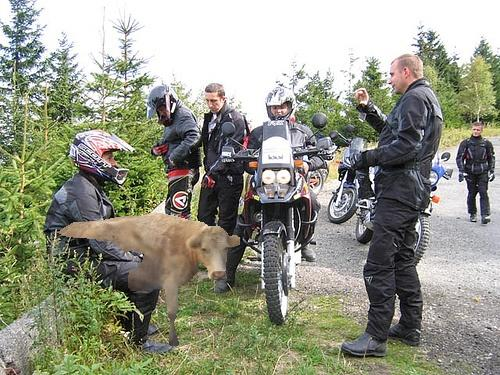tampered: (58, 213, 240, 346)
